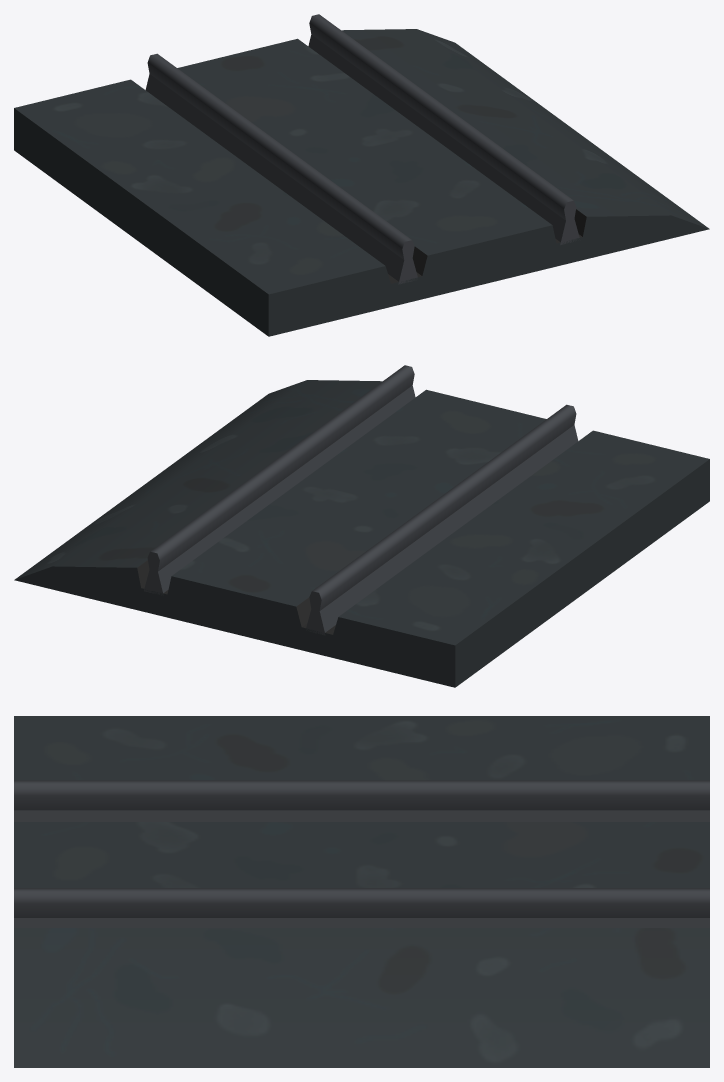
Rendered from Railroad_E01.fbx.
The picture shows the model from 3 angles, top to bottom: view 1: azimuth 30°, elevation 25°; view 2: azimuth 150°, elevation 25°; view 3: azimuth 270°, elevation 25°; orthographic projection. The views are drawn at different scales.
Visible parts, largest first — view 1: Railroad_E01; view 2: Railroad_E01; view 3: Railroad_E01.
Part boxes in pixels (x1=…): Railroad_E01: x1=14, y1=14, x2=709, y2=336; Railroad_E01: x1=14, y1=365, x2=709, y2=687; Railroad_E01: x1=14, y1=716, x2=709, y2=1067.
Size of the model in its own units: 400 by 53.47 by 400.
1 material, 1 textured.
